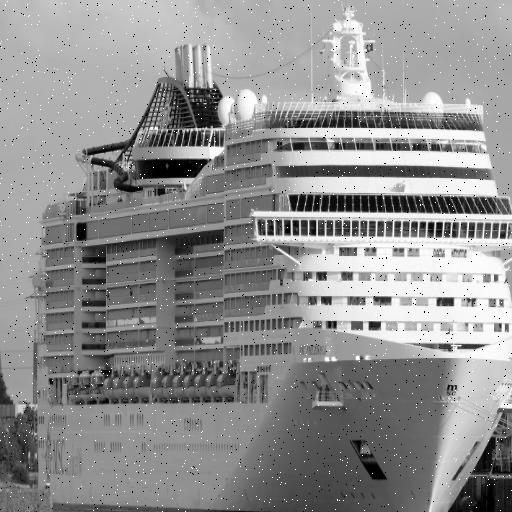cruises: (29, 9, 512, 512)
